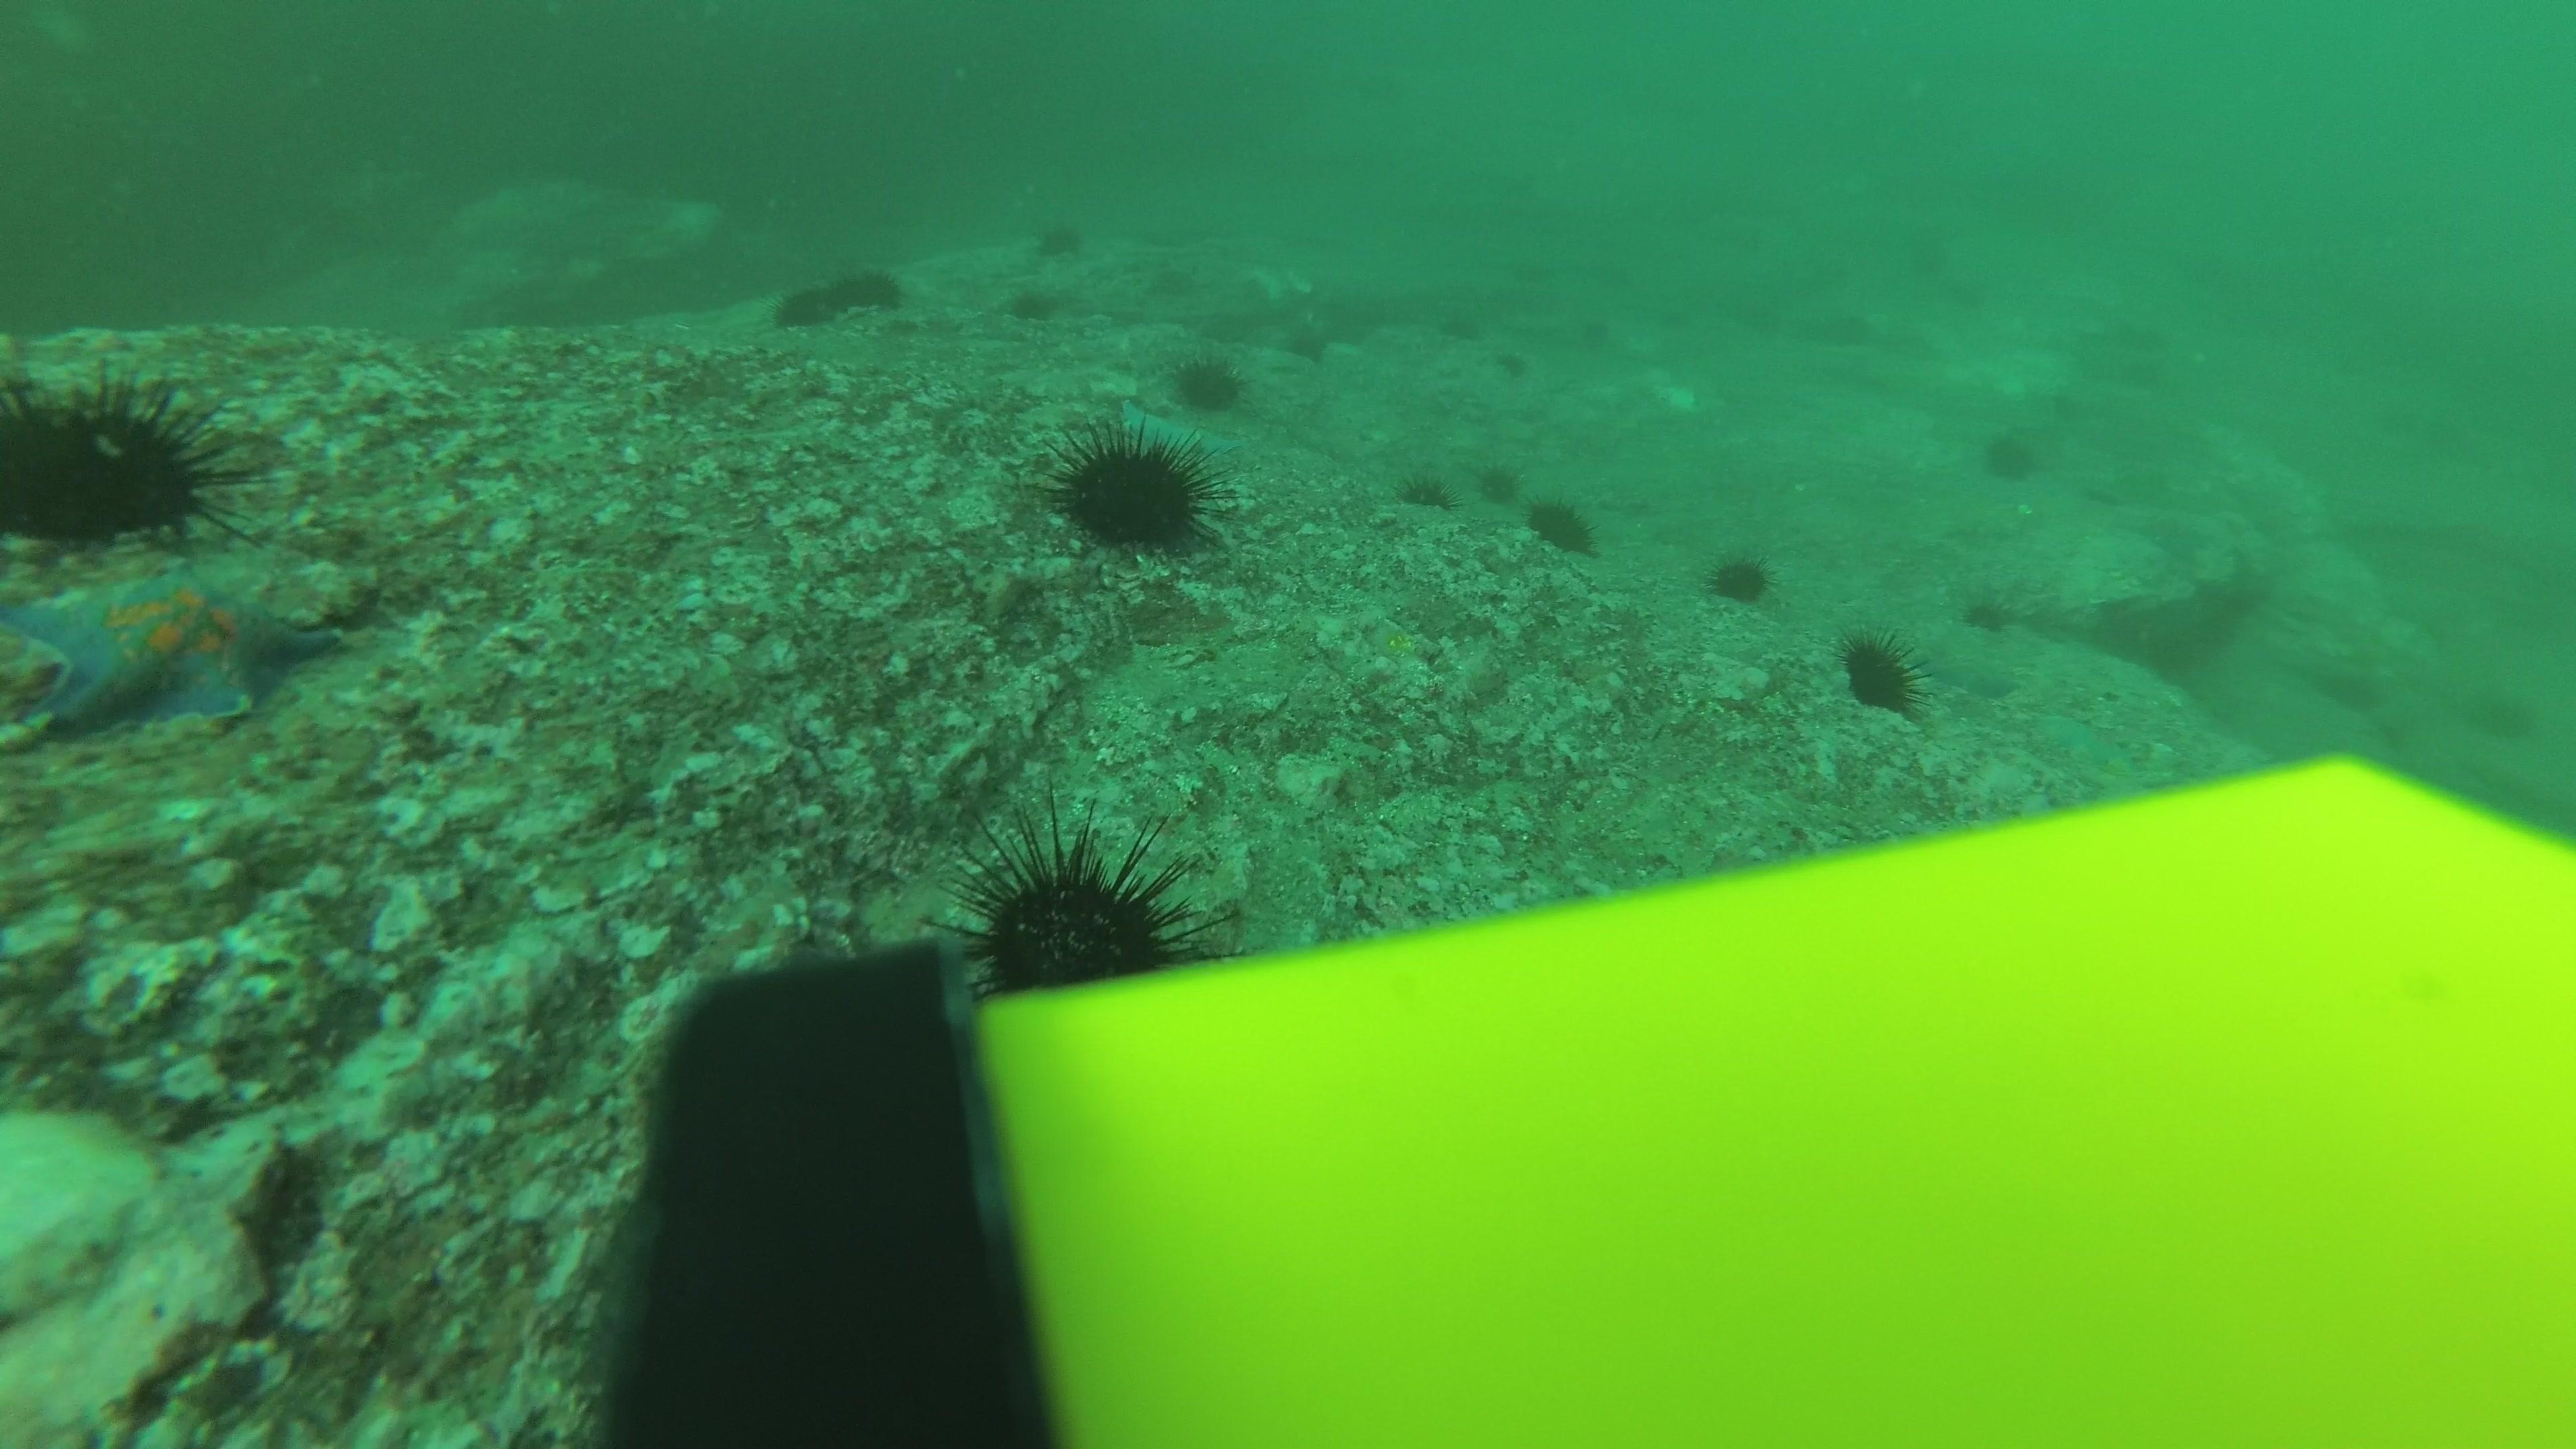echinus: (952, 810, 1207, 994), (4, 364, 244, 552), (1049, 419, 1221, 557), (1838, 628, 1925, 715), (1169, 349, 1247, 414), (1523, 492, 1598, 556), (842, 264, 922, 318), (1706, 545, 1775, 607), (1976, 423, 2043, 485), (771, 272, 839, 333), (1474, 460, 1523, 520), (1396, 465, 1453, 513), (1033, 214, 1086, 262), (1005, 283, 1063, 326), (1962, 589, 2013, 635)
starfish: (2, 557, 347, 738), (2024, 706, 2128, 768)
